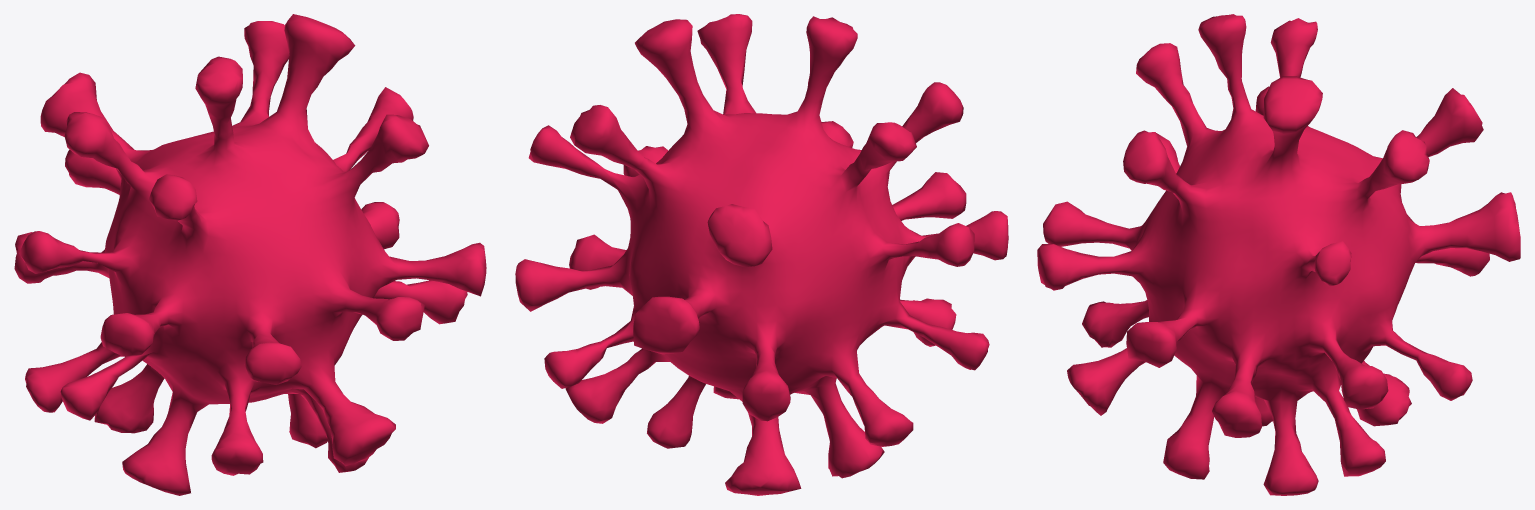
The model's file is covid_19_remesh.fbx.
The picture shows the model from 3 angles, left to right: view 1: azimuth 30°, elevation 25°; view 2: azimuth 150°, elevation 25°; view 3: azimuth 270°, elevation 25°; orthographic projection.
Visible parts, largest first — view 1: Icosphere; view 2: Icosphere; view 3: Icosphere.
Boxes of the visible parts, <box> form: Icosphere: <box>14,14,486,495</box>; Icosphere: <box>515,14,1008,495</box>; Icosphere: <box>1037,14,1520,495</box>.
Bounding box in the file's own units: 307 × 306 × 316.
